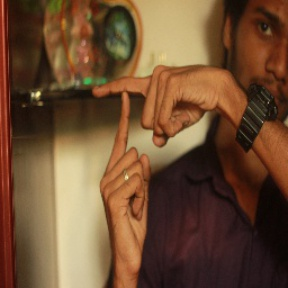T: (83, 64, 165, 188)
